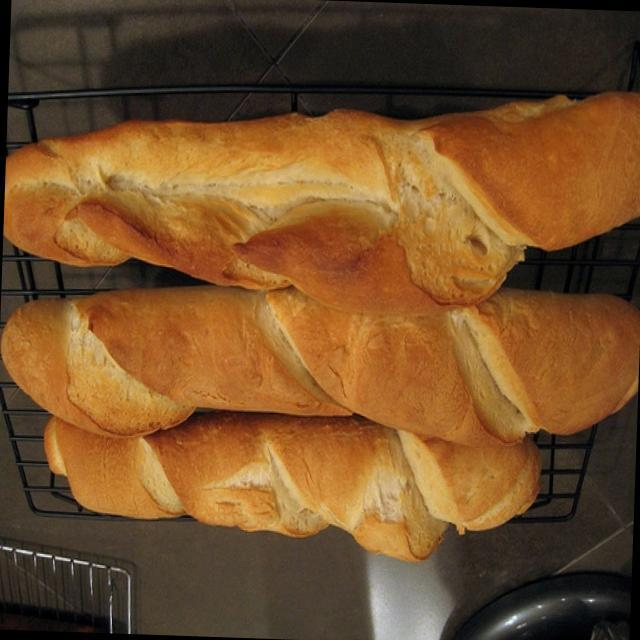Bread: (0, 64, 640, 564)
